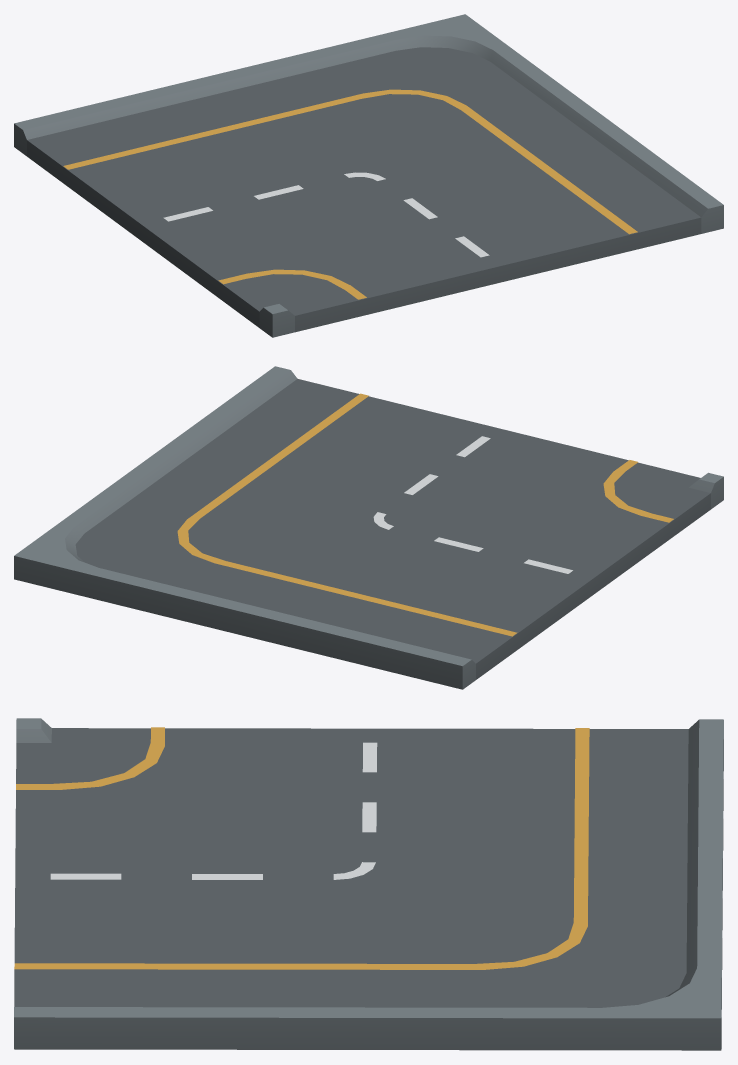
The model's file is road_corner.003_lev3.glb.
3 renders of one model, top to bottom at view 1: azimuth 30°, elevation 25°; view 2: azimuth 150°, elevation 25°; view 3: azimuth 270°, elevation 25°, orthographic. The views are drawn at different scales.
Visible parts, largest first — view 1: road_corner.003_lev3; view 2: road_corner.003_lev3; view 3: road_corner.003_lev3.
Boxes of the visible parts, left/top/right/bottom form: road_corner.003_lev3: left=14, top=14, right=723, bottom=337; road_corner.003_lev3: left=14, top=366, right=723, bottom=689; road_corner.003_lev3: left=14, top=718, right=723, bottom=1050.
Bounding box in the file's own units: 8.84 × 0.4406 × 8.84.
Materials: 1 (1 with a texture image).
